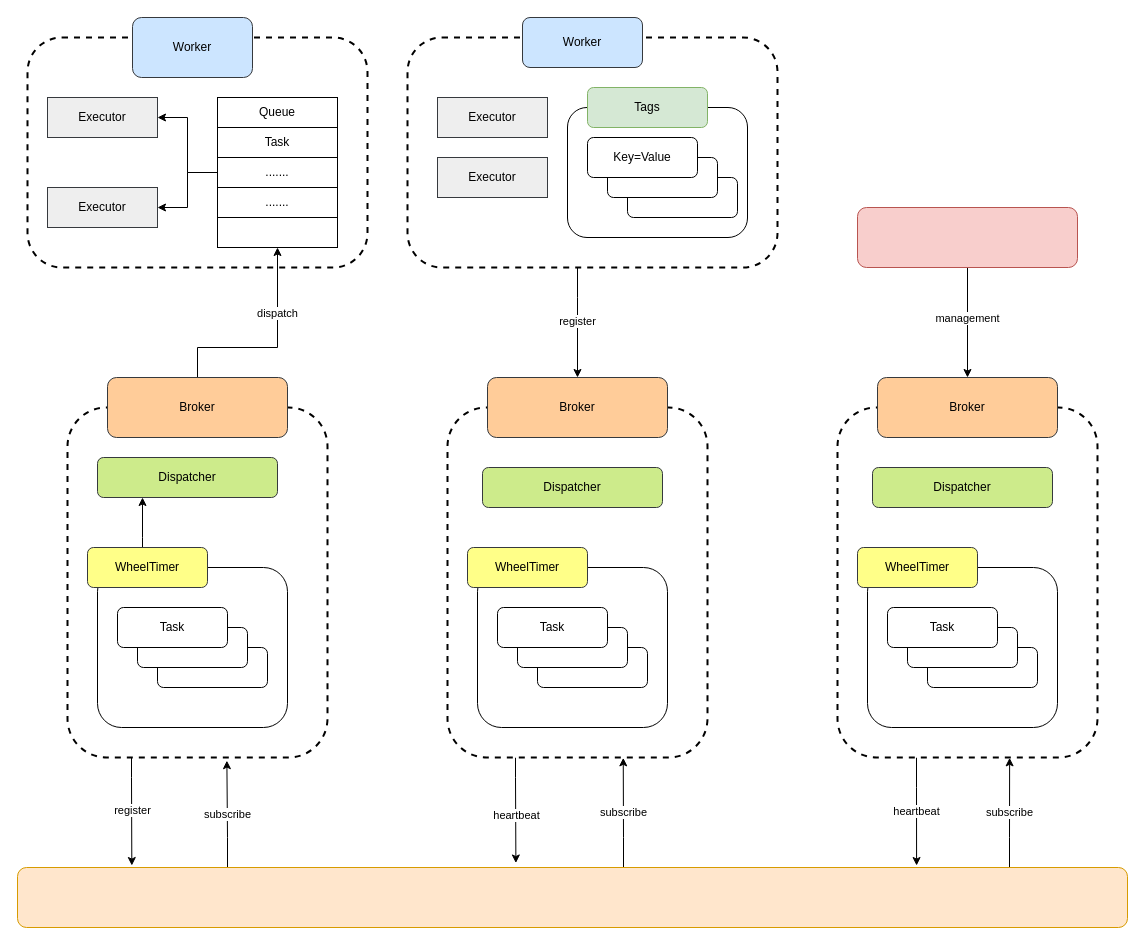
Image size: 1145x945. Some labels were removed from this diagram. Here are the shapes that lost their labels. From the top down, the centre of each, then its label:
[967,237]: Console
[572,897]: Registry
